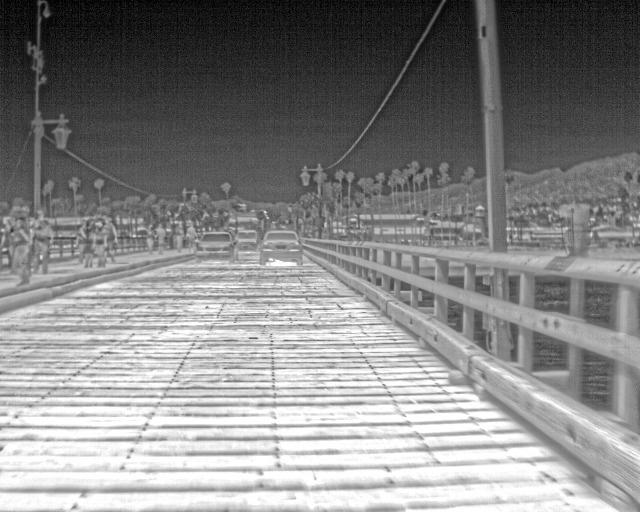bicycle: (257, 226, 304, 265), (194, 230, 237, 263), (237, 227, 259, 253)
empty: (10, 217, 32, 285), (32, 211, 52, 273), (91, 217, 109, 268), (102, 214, 119, 263), (80, 218, 96, 269), (152, 220, 169, 257), (172, 219, 188, 253), (144, 222, 156, 255)
